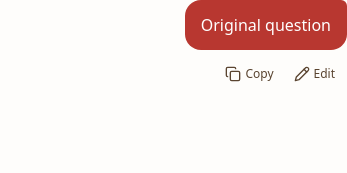
edit acceptance › retains the edit on rejection and closes only after an accepted update
The image size is (347, 173).
Later steps or results of the test are not shown.
Click the button with aria-label "Edit message": [314, 74] box [286, 52, 343, 96]
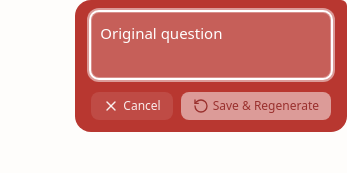
Replace the text in the text box with "Keep this edited question": [211, 45] box [91, 12, 331, 78]
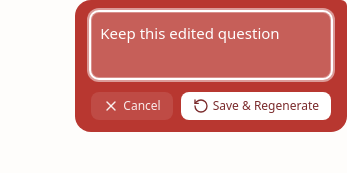
Click the button "Save & Regenerate": [256, 106] box [181, 92, 331, 120]
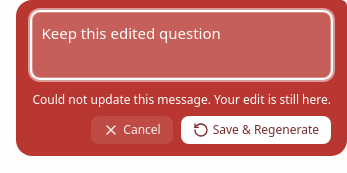
Now the message shows "Your edit is still here.", box [32, 91, 331, 108]
